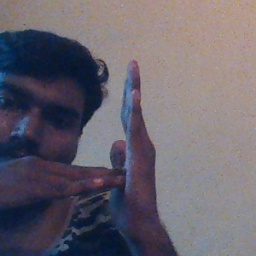Z: (44, 61, 169, 235)
